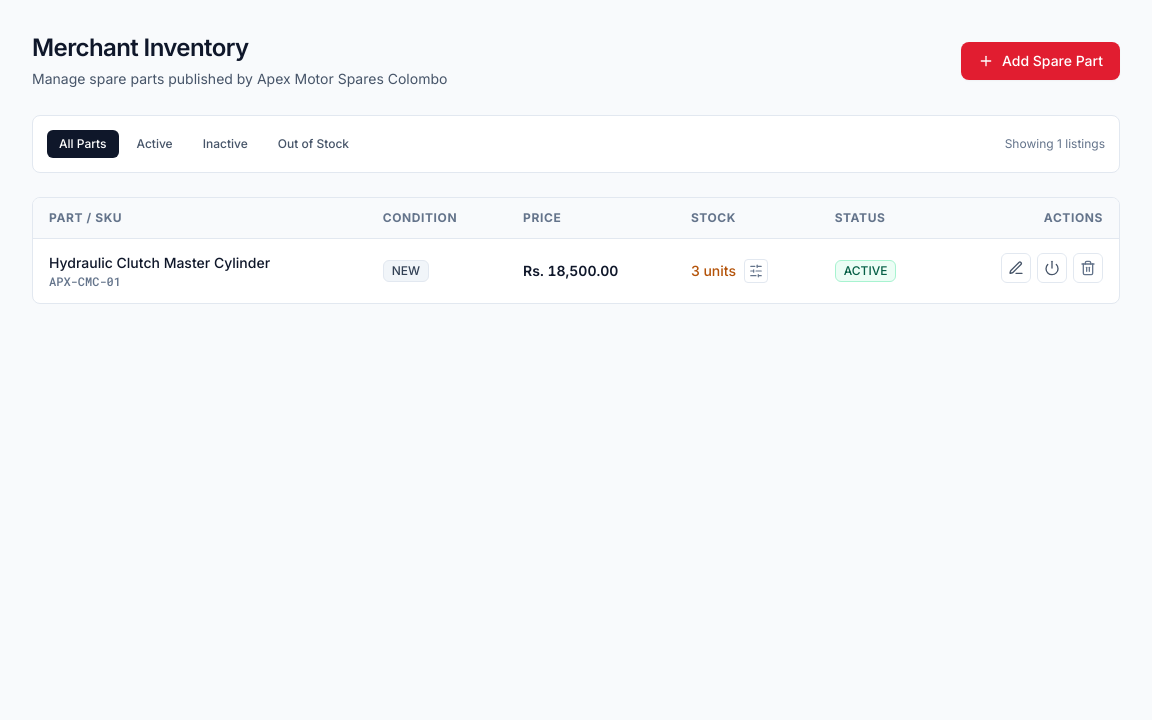
Test: MOD-02 Seller & Administrator Workstations Tests › Renders seller inventory dashboard and opens quick stock adjustment modal
Expected: the text "Hydraulic Clutch Master Cylinder" is shown, [49,254,270,271]
Expected: the text "APX-CMC-01" is shown, [49,273,121,289]
# Quick stock edit button
Click the button titled "Quick Stock Adjustment" at (756, 271), box [744,259,768,283]
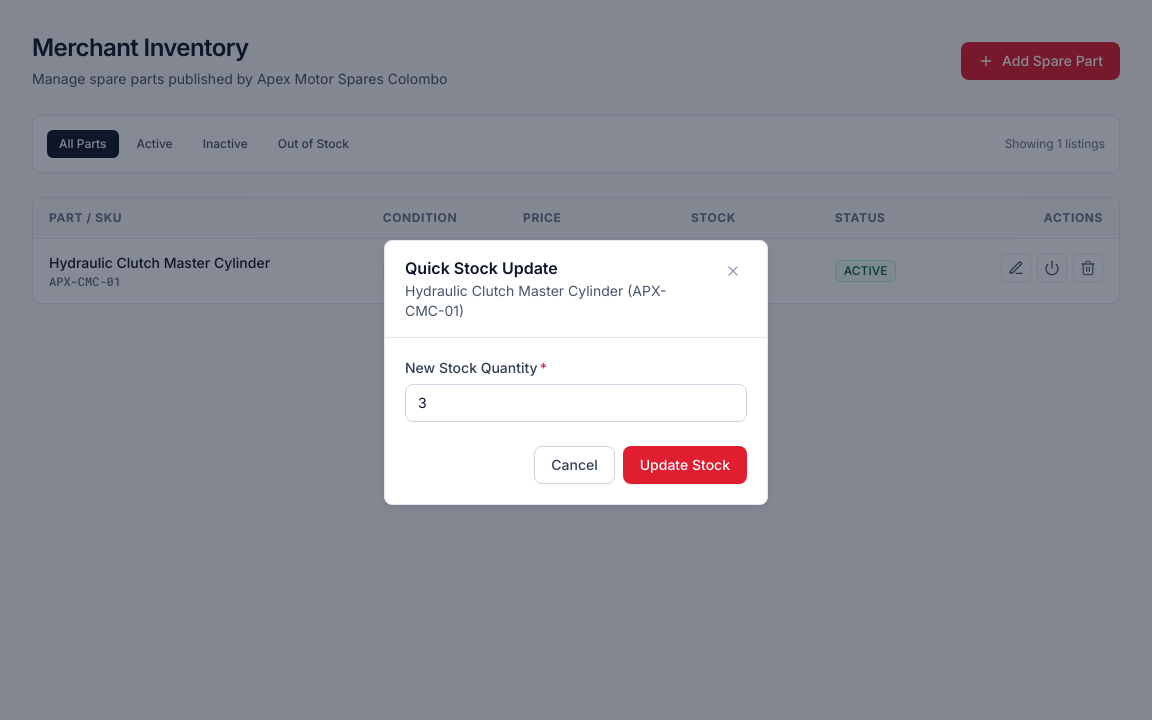
Result: the heading "Quick Stock Update" is shown at [405,258,558,278]
Result: the button "Update Stock" is shown at [623,446,747,484]
